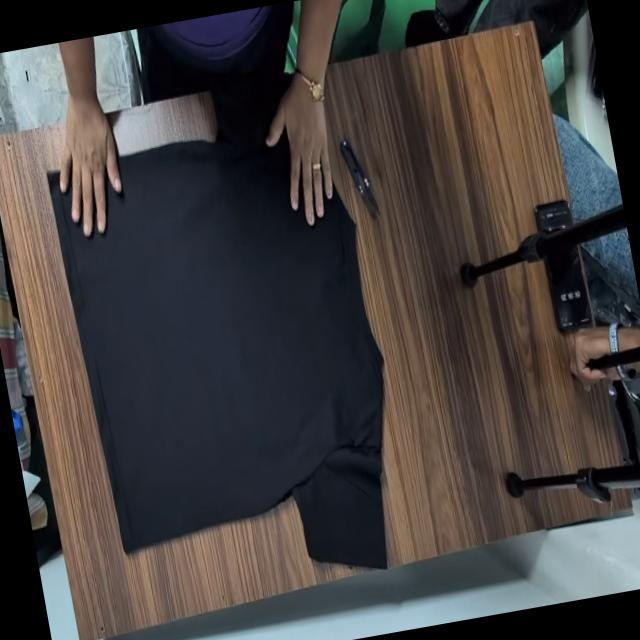new-garment: (49, 141, 385, 566)
